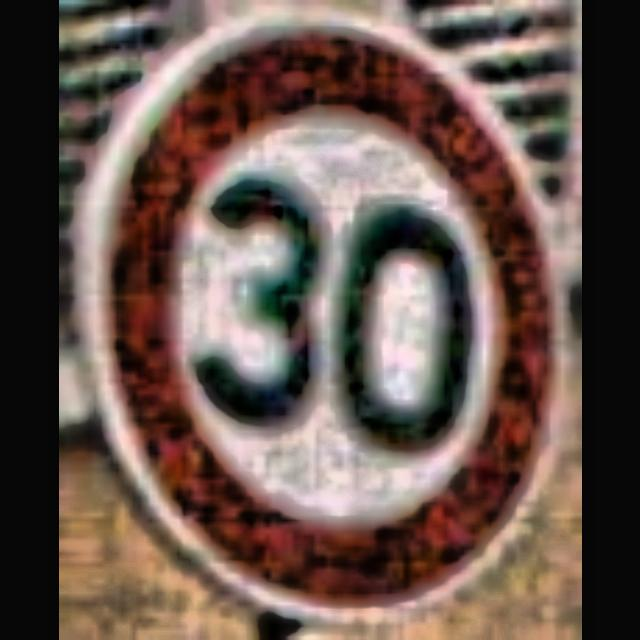speed_30: (98, 18, 554, 610)
